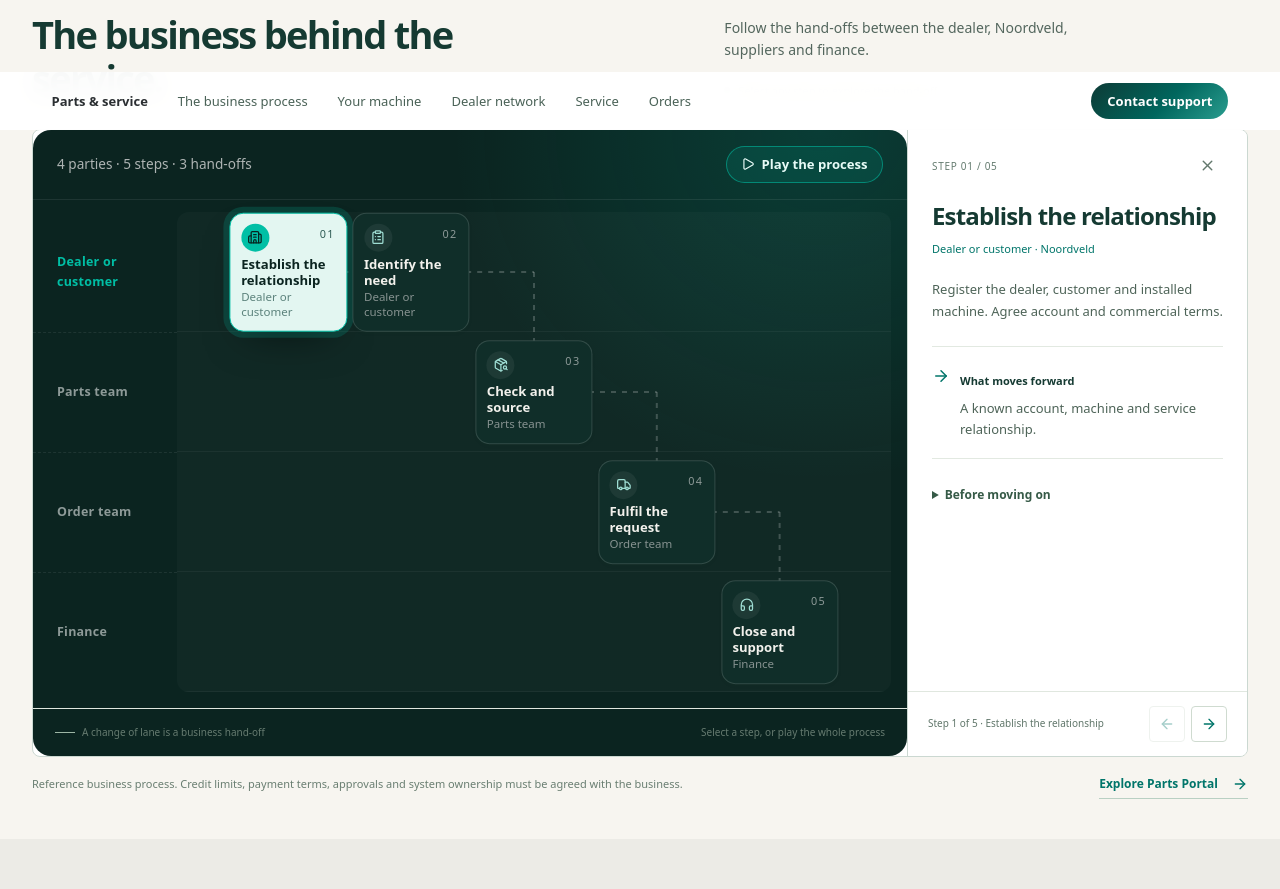
Parts & Services page › shows who owns a process step and returns keyboard focus when its details close
(page scrolled)
Click the heading "Before moving on".
click(998, 494)  # box [945, 486, 1051, 503]
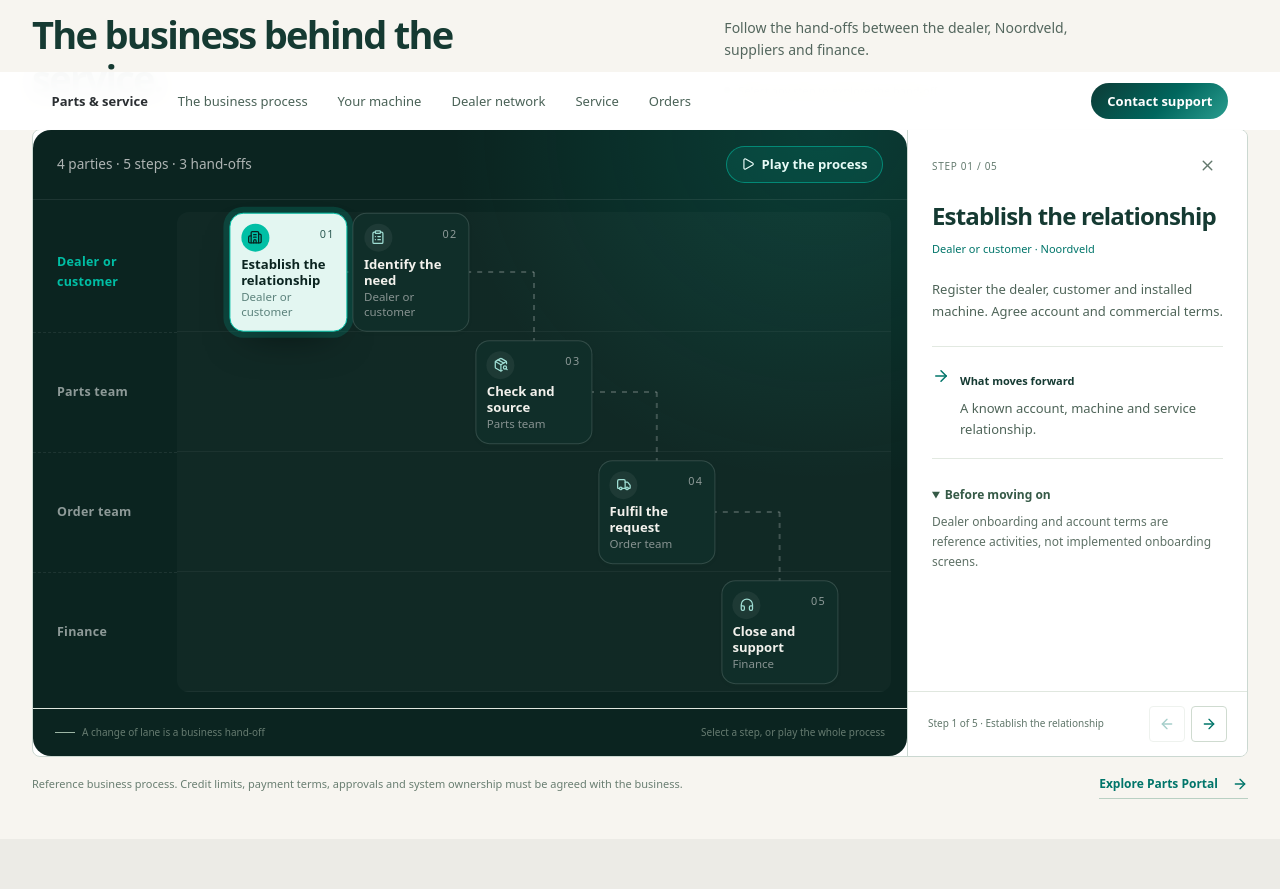
Expected: the text "Dealer onboarding" is shown, [932, 513, 1211, 570]
Click the button named "Close process step".
click(1207, 166)  # box [1191, 150, 1223, 182]
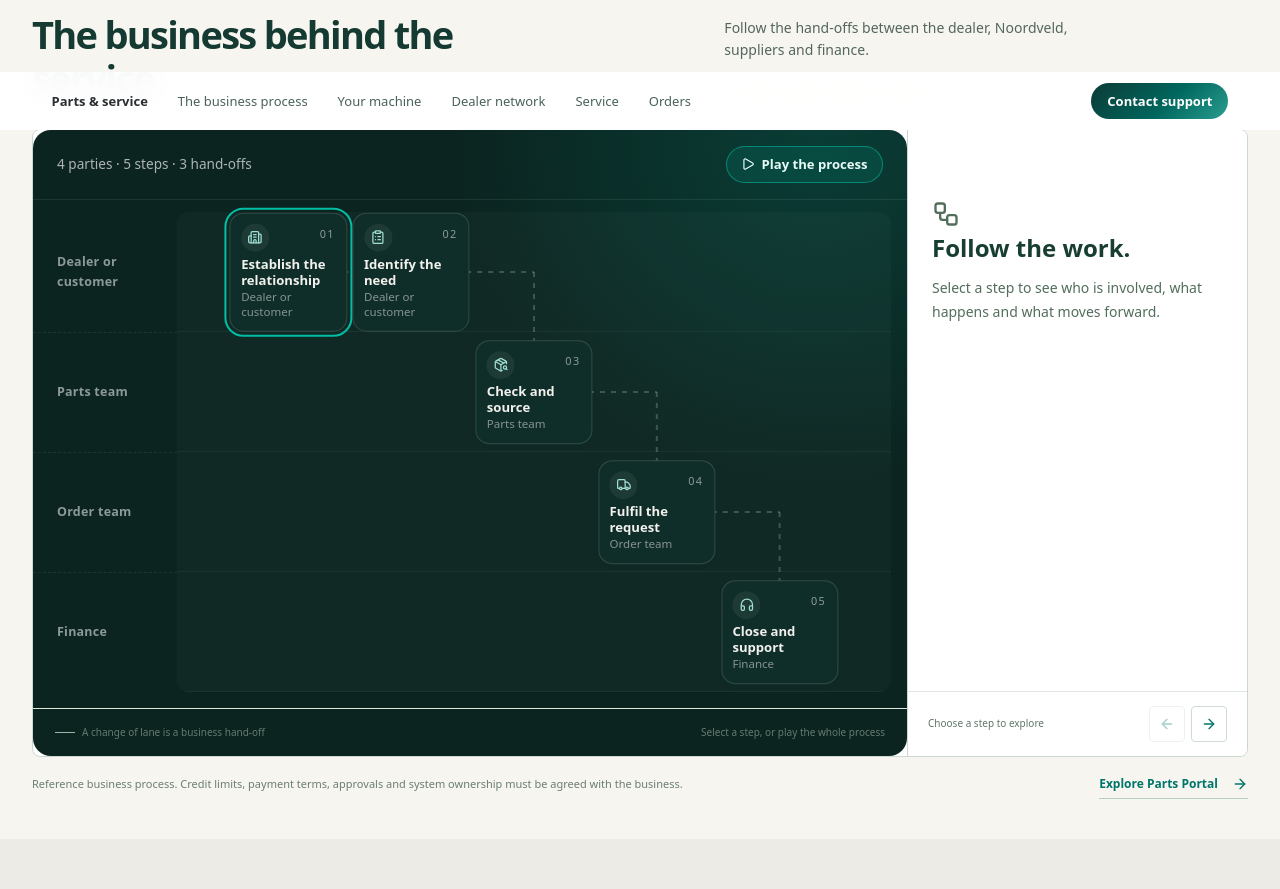
Expected: the button "01 Establish the relationship Dealer or customer" is collapsed, [230, 213, 347, 331]
